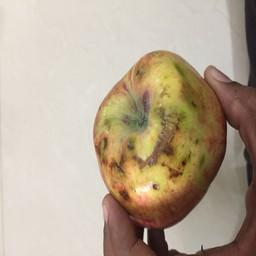Bad_apple: (92, 47, 226, 232)
